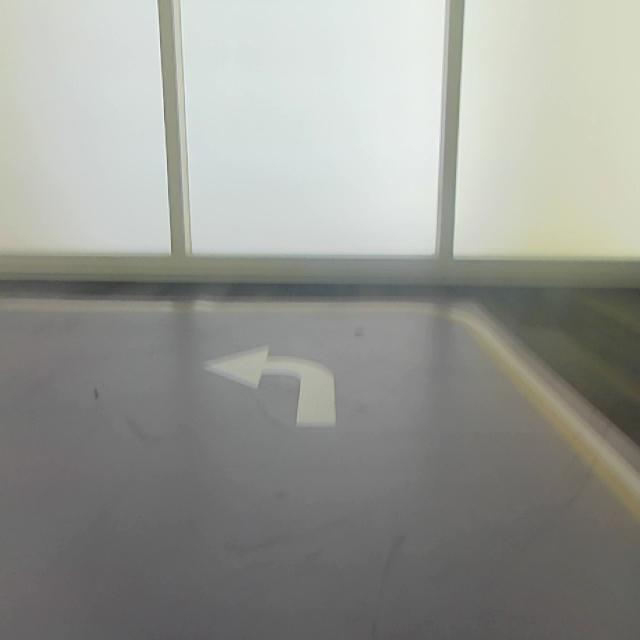right_lane: (476, 322, 640, 521)
